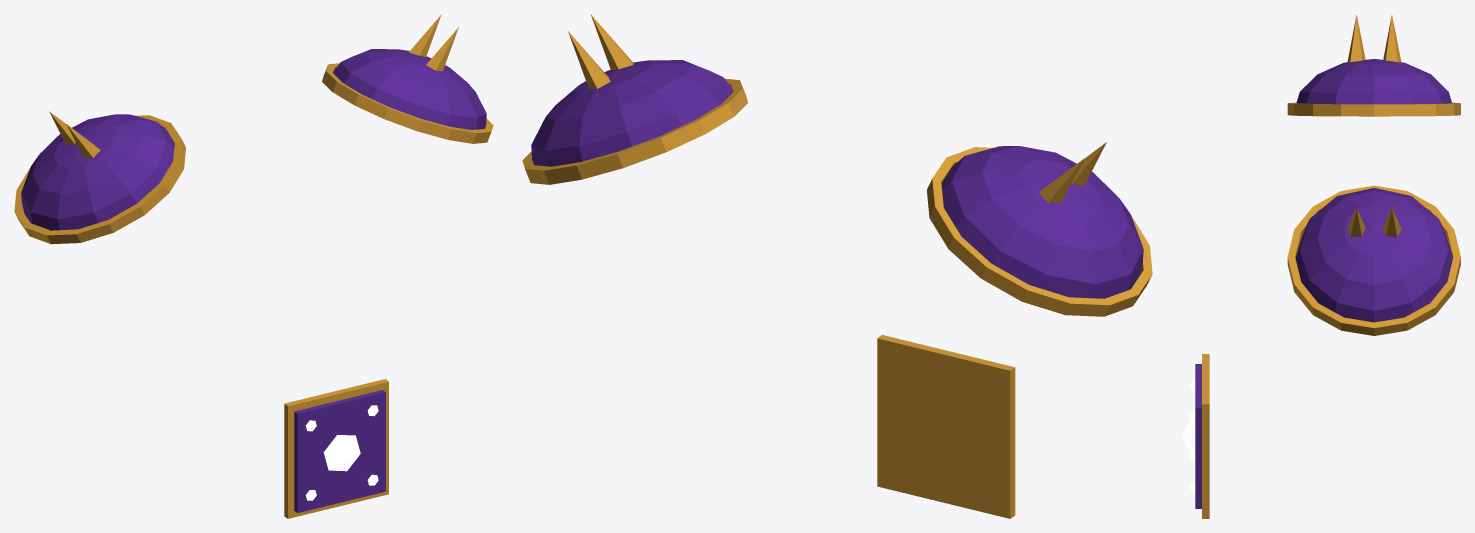
Rendered from armor_knight_chest_epic_orc.glb.
3 renders of one model, left to right at view 1: azimuth 30°, elevation 25°; view 2: azimuth 150°, elevation 25°; view 3: azimuth 270°, elevation 25°, orthographic. The views are drawn at different scales.
Visible parts, largest first — view 1: armor_knight_chest_epic_orc__clavicle_r, armor_knight_chest_epic_orc__spine_03, armor_knight_chest_epic_orc__clavicle_l; view 2: armor_knight_chest_epic_orc__clavicle_r, armor_knight_chest_epic_orc__spine_03, armor_knight_chest_epic_orc__clavicle_l; view 3: armor_knight_chest_epic_orc__clavicle_l, armor_knight_chest_epic_orc__clavicle_r, armor_knight_chest_epic_orc__spine_03.
Boxes of the visible parts, bbox=[...] form: armor_knight_chest_epic_orc__clavicle_r: bbox=[14, 111, 185, 244]; armor_knight_chest_epic_orc__spine_03: bbox=[284, 379, 388, 518]; armor_knight_chest_epic_orc__clavicle_l: bbox=[322, 14, 493, 143]; armor_knight_chest_epic_orc__clavicle_r: bbox=[927, 142, 1152, 316]; armor_knight_chest_epic_orc__spine_03: bbox=[877, 335, 1015, 518]; armor_knight_chest_epic_orc__clavicle_l: bbox=[522, 15, 747, 184]; armor_knight_chest_epic_orc__clavicle_l: bbox=[1287, 185, 1460, 335]; armor_knight_chest_epic_orc__clavicle_r: bbox=[1287, 15, 1460, 116]; armor_knight_chest_epic_orc__spine_03: bbox=[1181, 354, 1209, 518].
Bounding box in the file's own units: 71.45 × 56.16 × 37.15.
